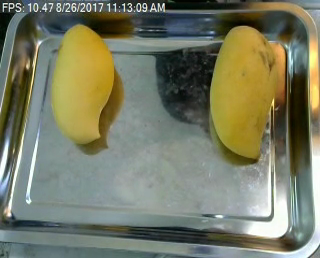Mango: (206, 22, 276, 163), (48, 22, 119, 147)
